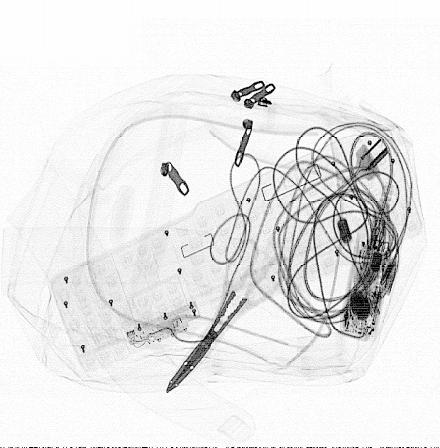Scissors: (165, 237, 291, 395)
